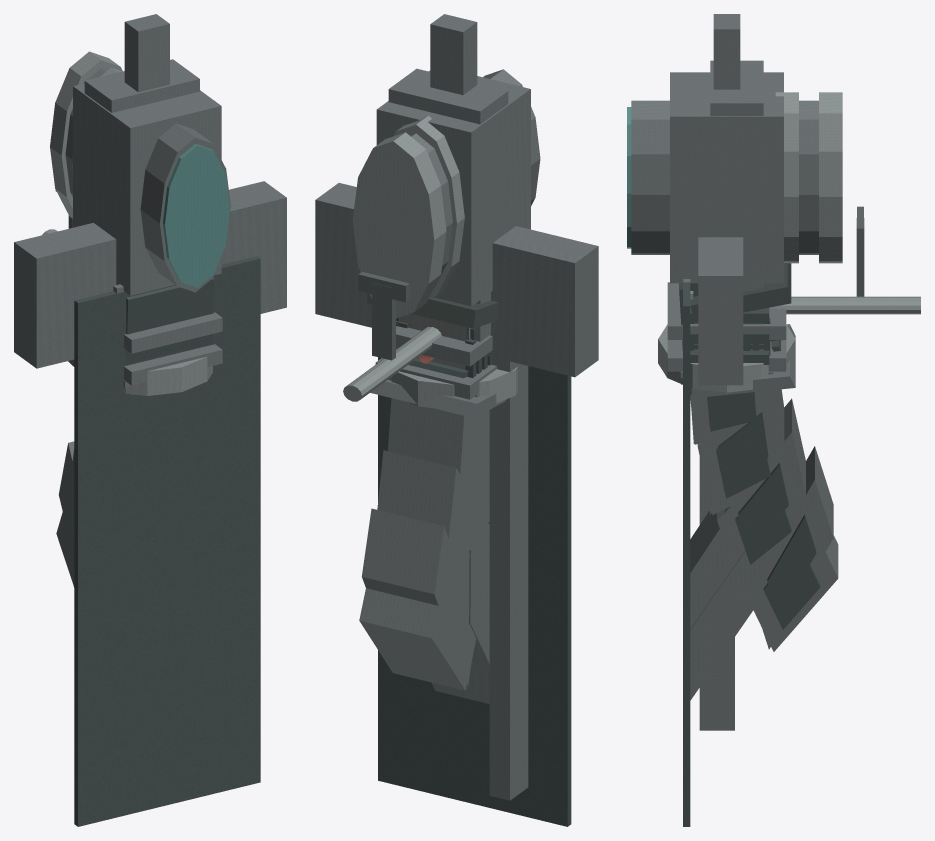
File: weapon_akm.glb
3 views of the same model, side by side, from view 1: azimuth 30°, elevation 25°; view 2: azimuth 150°, elevation 25°; view 3: azimuth 270°, elevation 25° (orthographic). The views are drawn at different scales.
Parts seen in each view (by area): view 1: weapon_akm__L1_stock__ak_cheek, weapon_akm__L0_stock__ak_cheek, weapon_akm__L0_mount_optic__prism2, weapon_akm__L0_mount_optic__dot_tube, weapon_akm__L1_mount_optic__prism2, weapon_akm__L1_mount_optic__dot_tube, weapon_akm__L0_stock__ak_stock, weapon_akm__L0_mount_optic__scope4, weapon_akm__L1_mount_optic__scope4, weapon_akm__L1_stock__ak_stock, weapon_akm__L0_muzzle__ak_ported, weapon_akm__L0_mount_optic__holo (+7 smaller); view 2: weapon_akm__L0_stock__ak_cheek, weapon_akm__L1_stock__ak_cheek, weapon_akm__L0_mount_optic__prism2, weapon_akm__L0_mount__ak_mount, weapon_akm__L1_magazine__ak762_20, weapon_akm__L0_magazine__ak762_20, weapon_akm__L1_mount_optic__prism2, weapon_akm__L1_mount__ak_mount, weapon_akm__L1_magazine__ak762_30, weapon_akm__L0_mount_optic__dot_tube, weapon_akm__L0_body, weapon_akm__L0_mount_optic__holo (+14 smaller); view 3: weapon_akm__L0_mount_optic__prism2, weapon_akm__L1_mount_optic__prism2, weapon_akm__L1_stock__ak_cheek, weapon_akm__L0_magazine__ak762_30, weapon_akm__L0_stock__ak_cheek, weapon_akm__L0_mount_optic__scope4, weapon_akm__L0_magazine__ak762_20, weapon_akm__L1_magazine__ak762_30, weapon_akm__L1_magazine__ak762_20, weapon_akm__L0_mount_optic__dot_tube, weapon_akm__L0_body, weapon_akm__L1_mount_optic__dot_tube (+18 smaller).
Boxes of the visible parts, box(x1,y1,x2,y2) form: weapon_akm__L1_stock__ak_cheek: box(14, 181, 286, 826); weapon_akm__L0_stock__ak_cheek: box(14, 193, 283, 818); weapon_akm__L0_mount_optic__prism2: box(50, 52, 228, 291); weapon_akm__L0_mount_optic__dot_tube: box(72, 14, 228, 284); weapon_akm__L1_mount_optic__prism2: box(50, 51, 229, 295); weapon_akm__L1_mount_optic__dot_tube: box(72, 14, 230, 287); weapon_akm__L0_stock__ak_stock: box(126, 278, 213, 363); weapon_akm__L0_mount_optic__scope4: box(65, 68, 224, 289); weapon_akm__L1_mount_optic__scope4: box(66, 70, 230, 292); weapon_akm__L1_stock__ak_stock: box(126, 277, 214, 364); weapon_akm__L0_muzzle__ak_ported: box(124, 314, 220, 384); weapon_akm__L0_mount_optic__holo: box(85, 60, 198, 112); weapon_akm__L0_stock__ak_cheek: box(318, 183, 598, 822); weapon_akm__L1_stock__ak_cheek: box(315, 183, 598, 826); weapon_akm__L0_mount_optic__prism2: box(354, 76, 530, 315); weapon_akm__L0_mount__ak_mount: box(490, 359, 528, 796); weapon_akm__L1_magazine__ak762_20: box(361, 357, 489, 686); weapon_akm__L0_magazine__ak762_20: box(364, 360, 489, 680); weapon_akm__L1_mount_optic__prism2: box(352, 70, 530, 318); weapon_akm__L1_mount__ak_mount: box(489, 357, 528, 800); weapon_akm__L1_magazine__ak762_30: box(359, 423, 489, 690); weapon_akm__L0_mount_optic__dot_tube: box(396, 14, 476, 295); weapon_akm__L0_body: box(344, 273, 441, 400); weapon_akm__L0_mount_optic__holo: box(390, 69, 505, 338); weapon_akm__L0_mount_optic__prism2: box(660, 73, 841, 280); weapon_akm__L1_mount_optic__prism2: box(660, 72, 842, 283); weapon_akm__L1_stock__ak_cheek: box(683, 237, 766, 826); weapon_akm__L0_magazine__ak762_30: box(699, 390, 836, 649); weapon_akm__L0_stock__ak_cheek: box(683, 237, 764, 797); weapon_akm__L0_mount_optic__scope4: box(632, 100, 818, 254); weapon_akm__L0_magazine__ak762_20: box(692, 388, 829, 645); weapon_akm__L1_magazine__ak762_30: box(690, 388, 838, 651); weapon_akm__L1_magazine__ak762_20: box(690, 389, 833, 649); weapon_akm__L0_mount_optic__dot_tube: box(628, 14, 797, 263); weapon_akm__L0_body: box(690, 207, 920, 349); weapon_akm__L1_mount_optic__dot_tube: box(627, 14, 798, 263).
Bounding box in the file's own units: 3.57 × 10.44 × 3.65.
3 materials, 3 textured.
